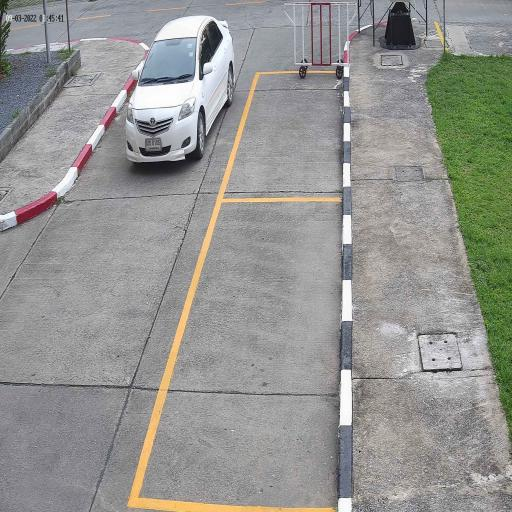car: (124, 14, 236, 166)
